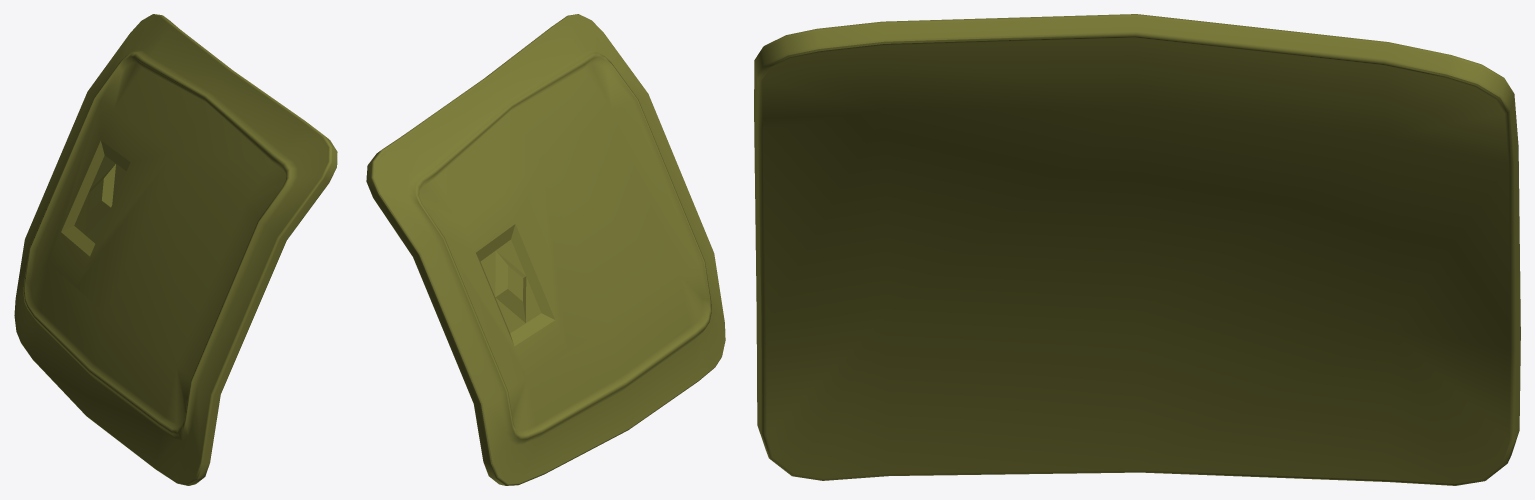
File: bomb_c_Lid.fbx
3 views of the same model, side by side, from view 1: azimuth 30°, elevation 25°; view 2: azimuth 150°, elevation 25°; view 3: azimuth 270°, elevation 25° (orthographic). The views are drawn at different scales.
Visible parts, largest first — view 1: bomb_c_Lid; view 2: bomb_c_Lid; view 3: bomb_c_Lid.
Part boxes in pixels (x1=…): bomb_c_Lid: x1=14, y1=14, x2=337, y2=485; bomb_c_Lid: x1=366, y1=14, x2=725, y2=485; bomb_c_Lid: x1=754, y1=14, x2=1520, y2=485.
Size of the model in its own units: 20.07 by 36.32 by 43.36.
